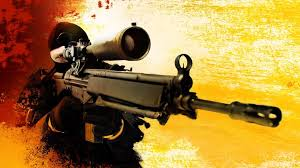gun: (47, 21, 282, 143)
